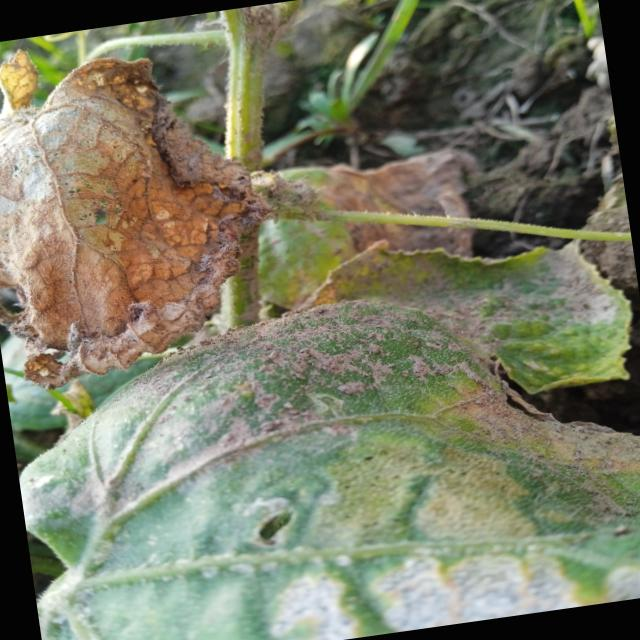cucumber_bacterial: (0, 229, 640, 640), (0, 26, 308, 374)
